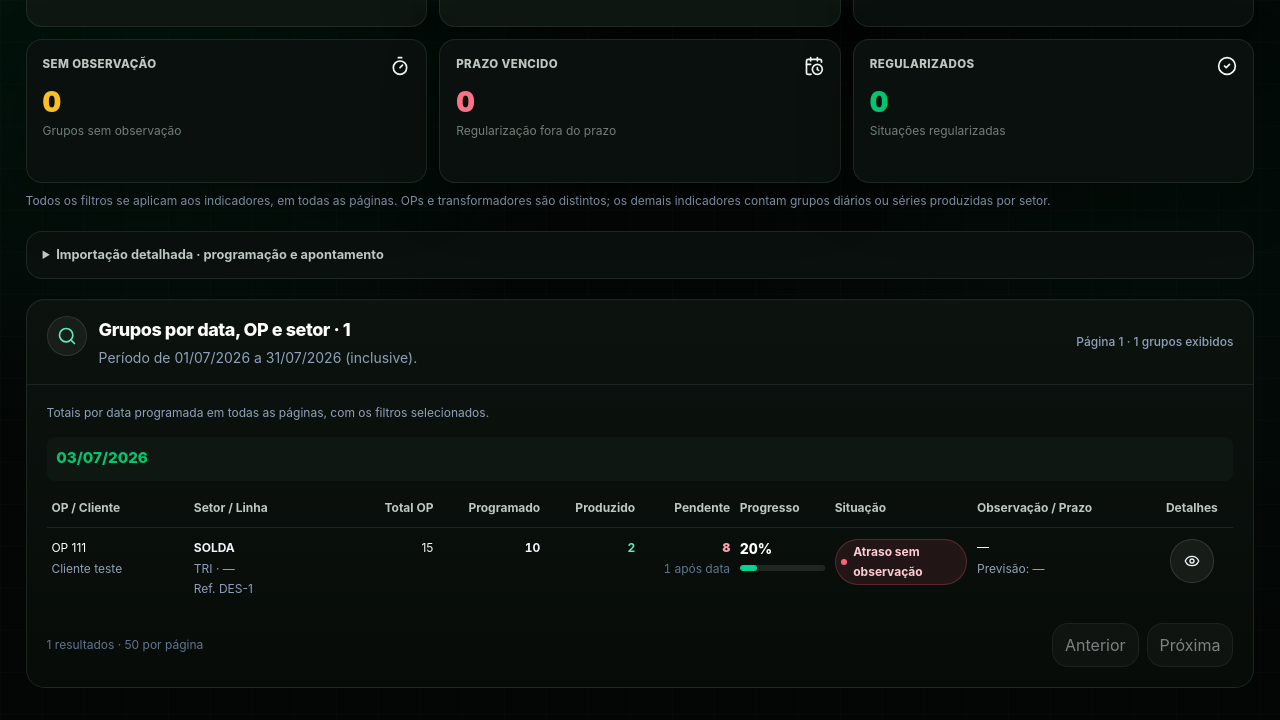
Test: Visão OP — concorrência e contexto › salva justificativa com período, recarrega histórico e preserva a navegação do modal
The image size is (1280, 720).
(page scrolled)
Click the button "OP 111": point(69, 548) [51, 539, 86, 557]
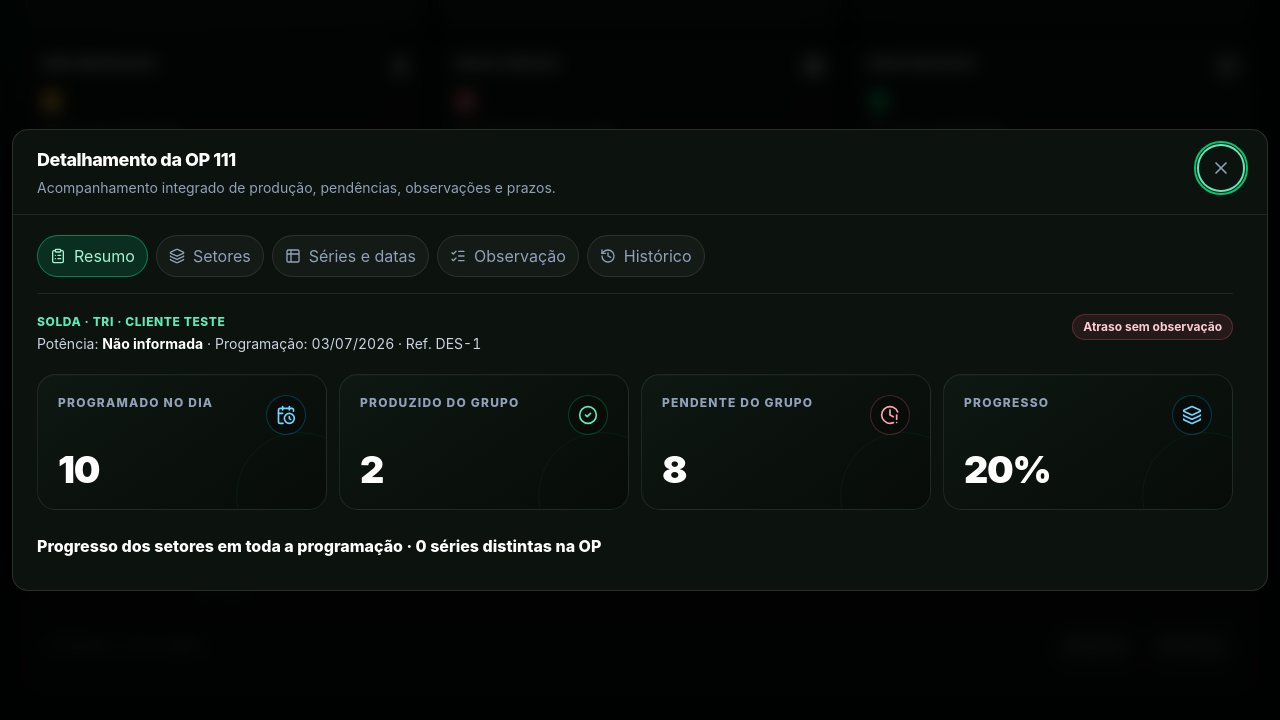
Now the heading "Progresso dos setores" is shown, box [37, 536, 416, 556]
Click the button "Observação": point(508, 256) [437, 235, 579, 277]
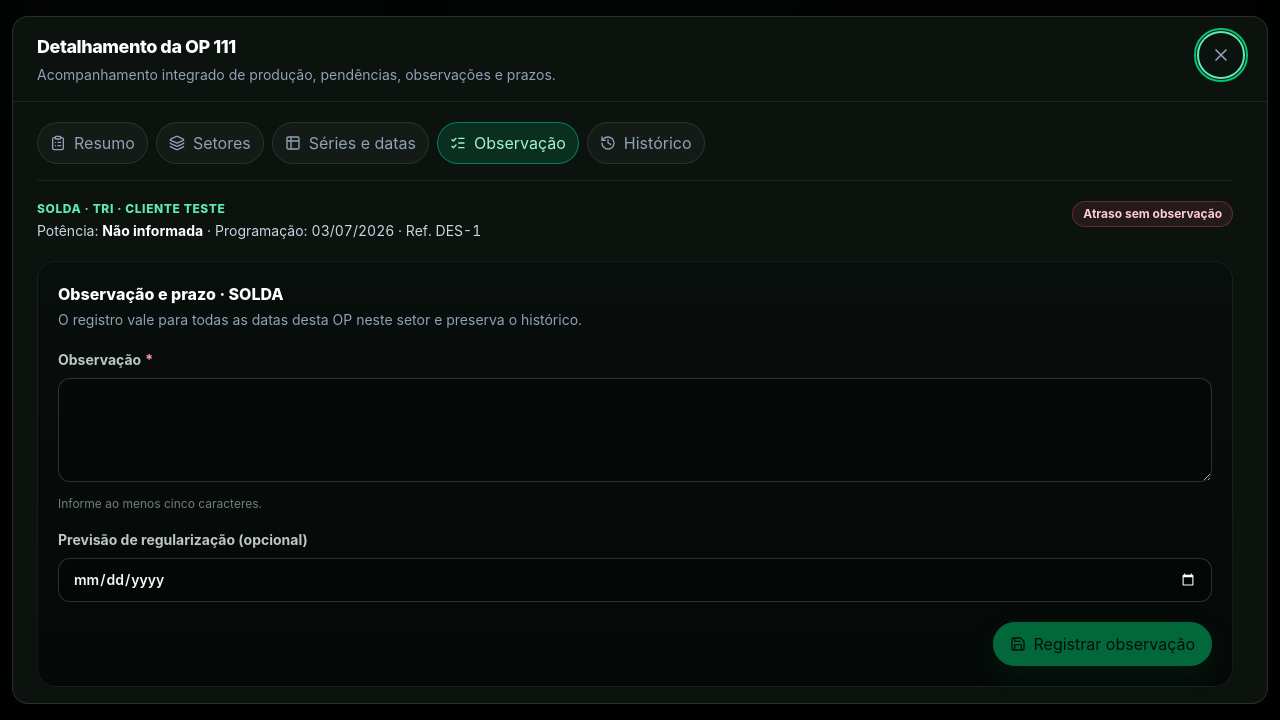
In the text box labelled "Observação*": point(635, 430) [58, 378, 1212, 482], type "Teste local de justificativa"
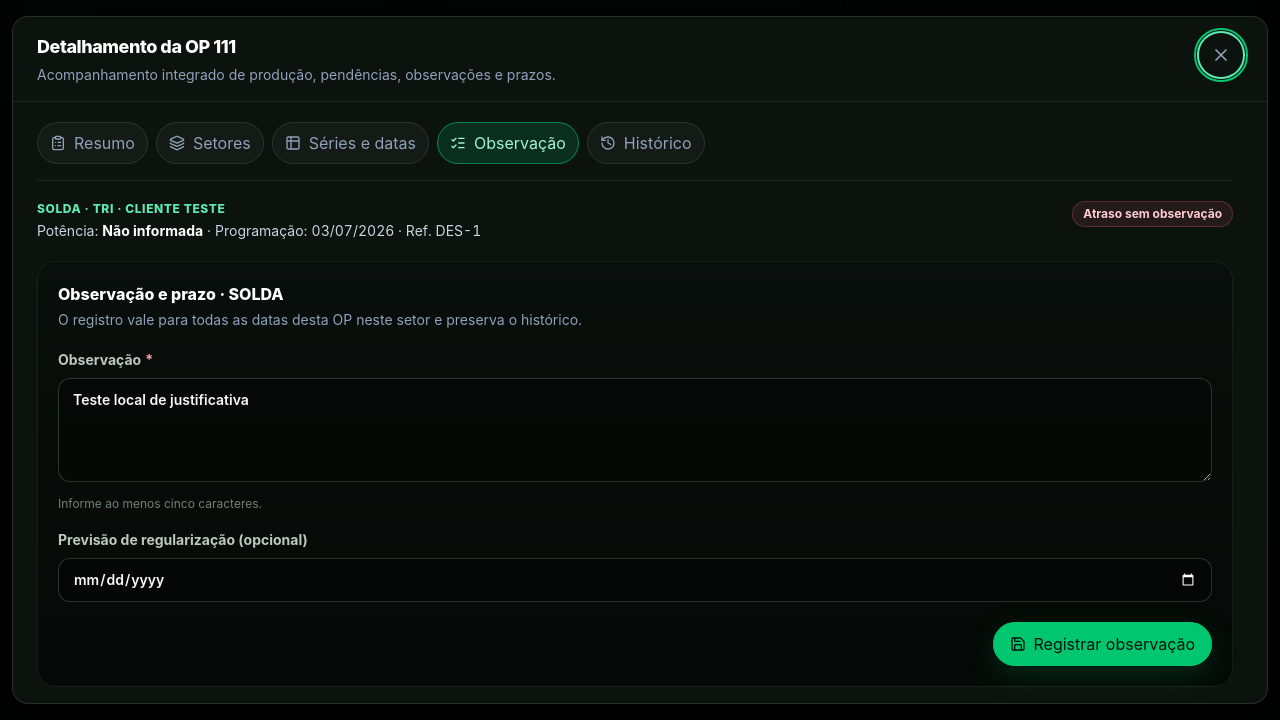
Click the button "Registrar observação": point(1102, 644) [992, 622, 1212, 666]
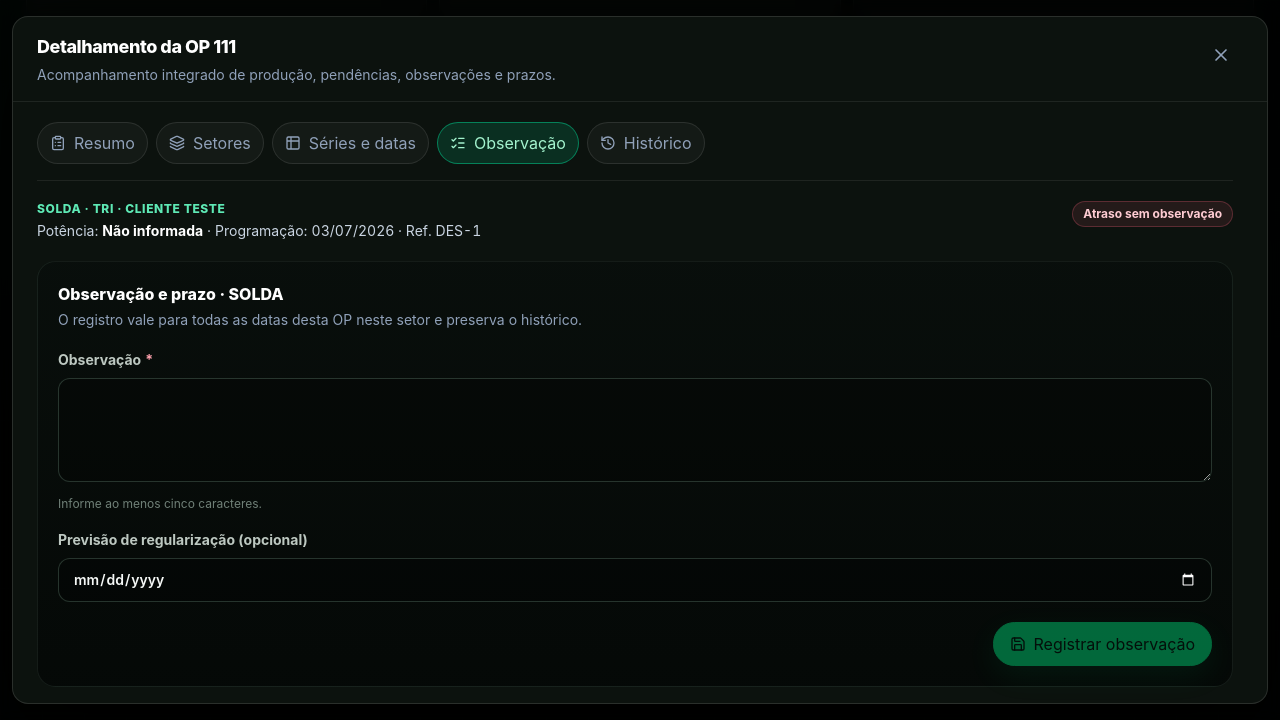
Click the button "Histórico": point(646, 143) [587, 122, 704, 164]
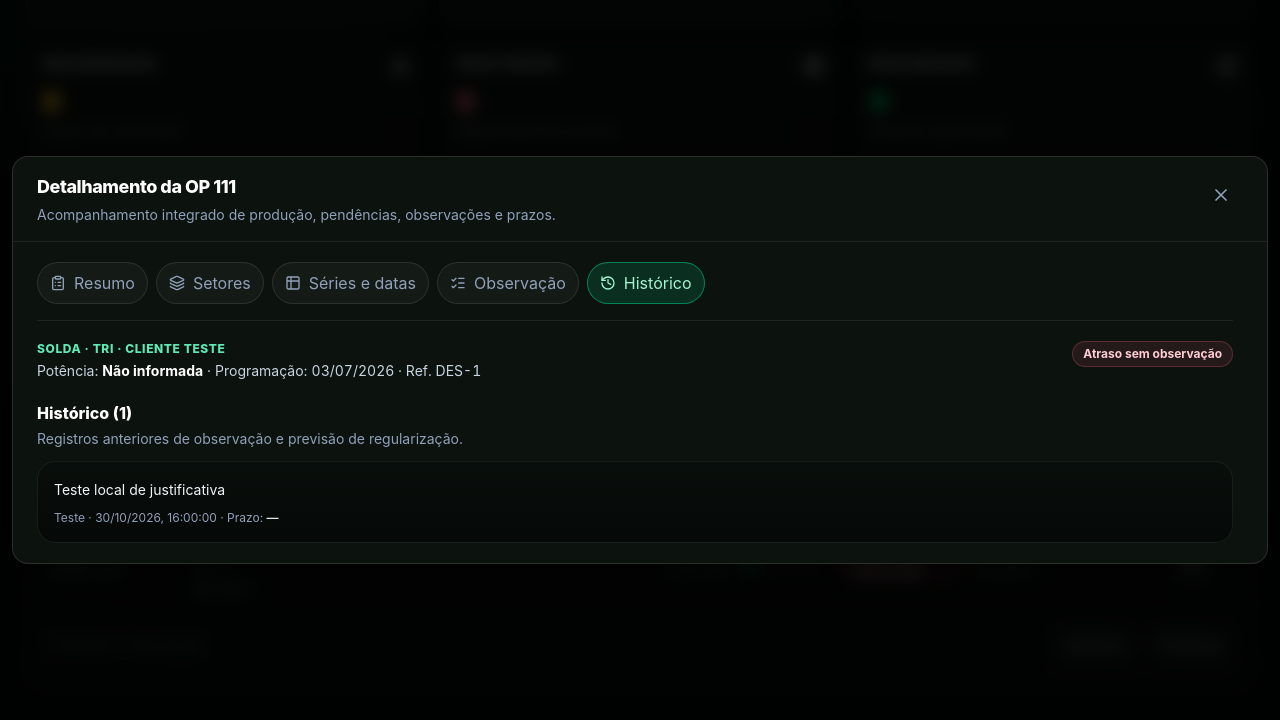
Now the text "Teste local de justificativa" is shown, box [54, 481, 225, 498]
